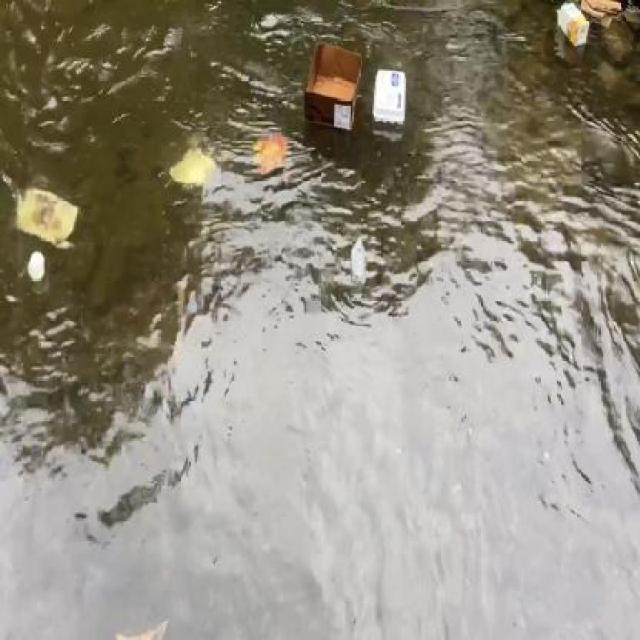Can-Metal: (162, 140, 223, 200)
Cardboard: (298, 37, 367, 141), (548, 0, 592, 54), (255, 130, 293, 181)
Paper: (576, 0, 629, 32), (22, 245, 50, 283)
Plastic: (12, 172, 86, 255), (369, 61, 408, 128), (350, 232, 368, 298)
